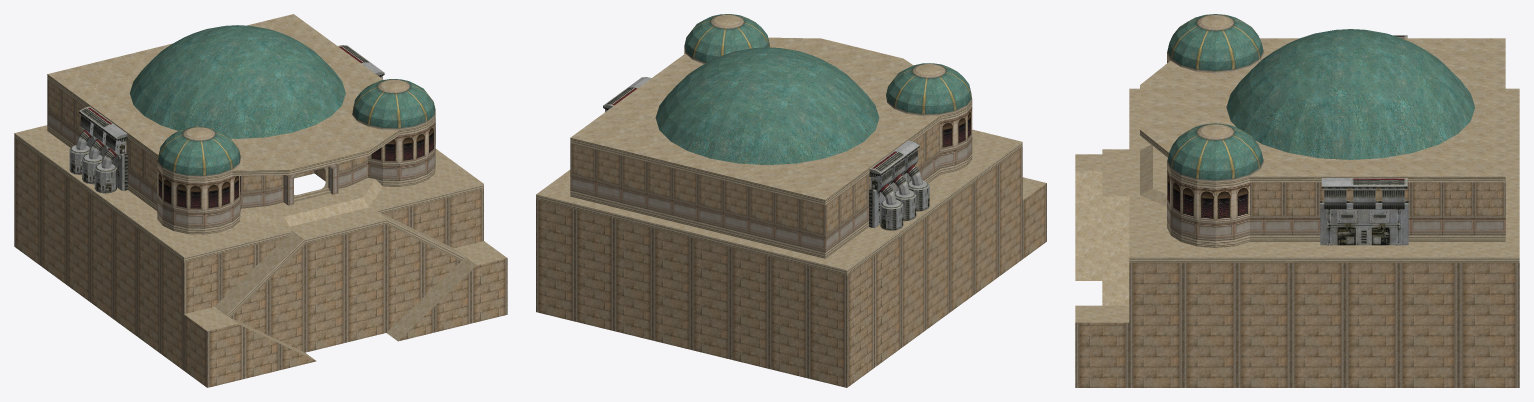
The model's file is ply_nboo_cantina_s01_r0_exterior_mesh_l0.fbx.
3 renders of one model, left to right at view 1: azimuth 30°, elevation 25°; view 2: azimuth 150°, elevation 25°; view 3: azimuth 270°, elevation 25°, orthographic. The views are drawn at different scales.
Parts seen in each view (by area): view 1: mesh_node; view 2: mesh_node; view 3: mesh_node.
Part boxes in pixels (x1,y1,x2,y2): mesh_node: (14,14,507,387); mesh_node: (536,14,1046,387); mesh_node: (1075,14,1519,387).
Size of the model in its own units: 37 by 26.74 by 41.2.
